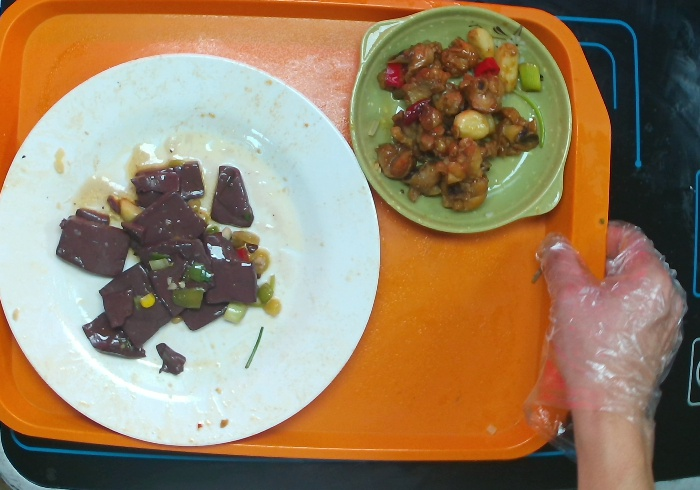NLDX-Da_Yuan_Pan: (1, 50, 382, 448)
NLDX-Lv_Hua_Shuang_Er_Die: (348, 4, 574, 235)
